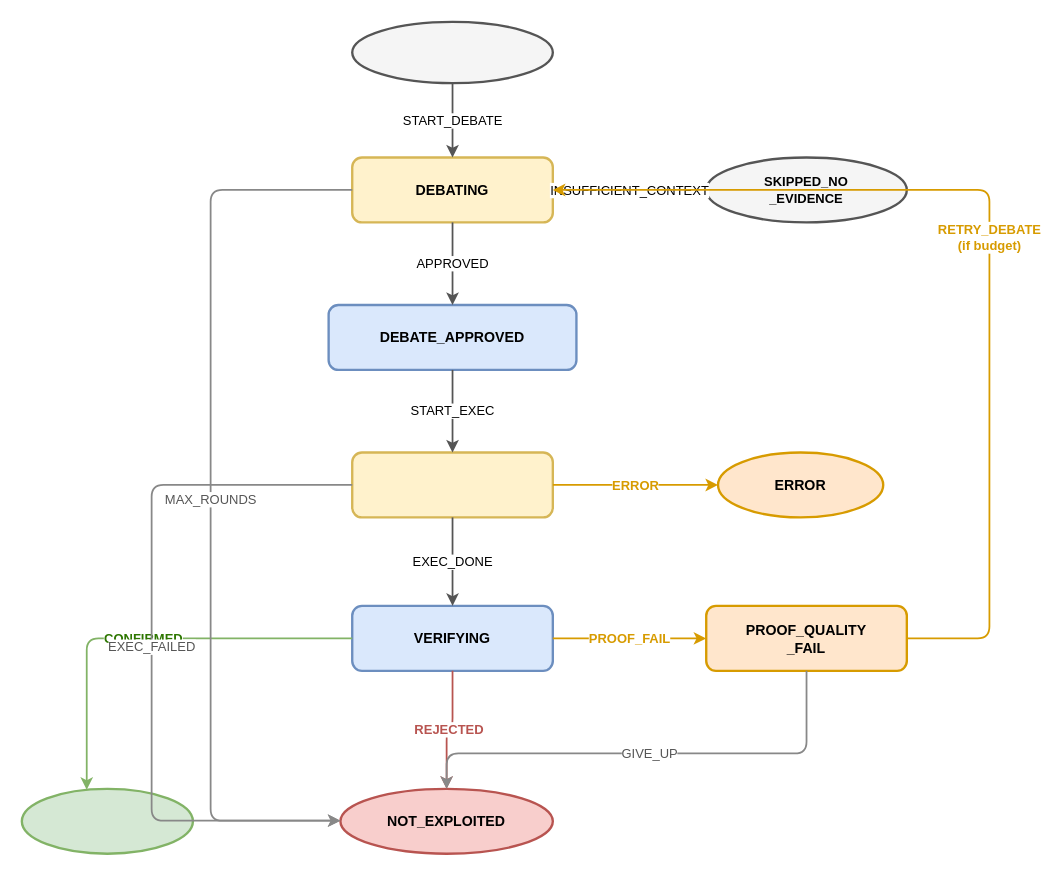
The diagram is 1061 pixels wide and 874 high, and some of its shapes have lost their labels. The centre of each missing label's shape, as x and y in pixels:
"EXECUTING" belongs at (x=451, y=484).
"EXPLOITED" belongs at (x=107, y=820).
"QUEUED" belongs at (x=451, y=52).
